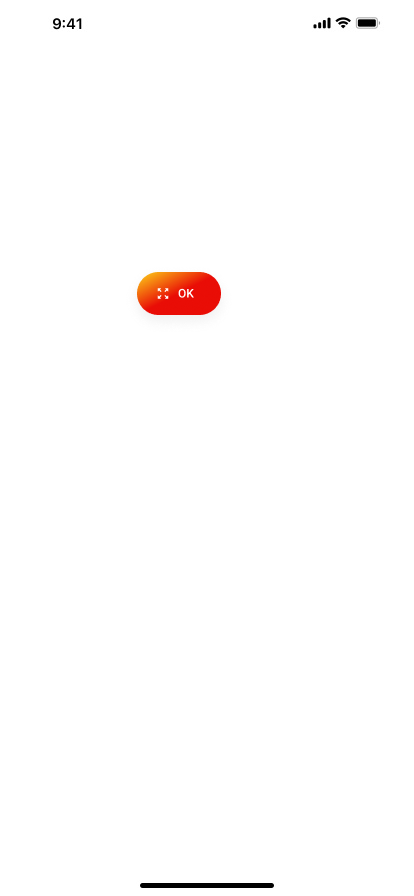Buttons: (122, 263, 236, 336)
Home Indicator: (0, 862, 414, 896)
Status Bar: (0, 0, 414, 44)
